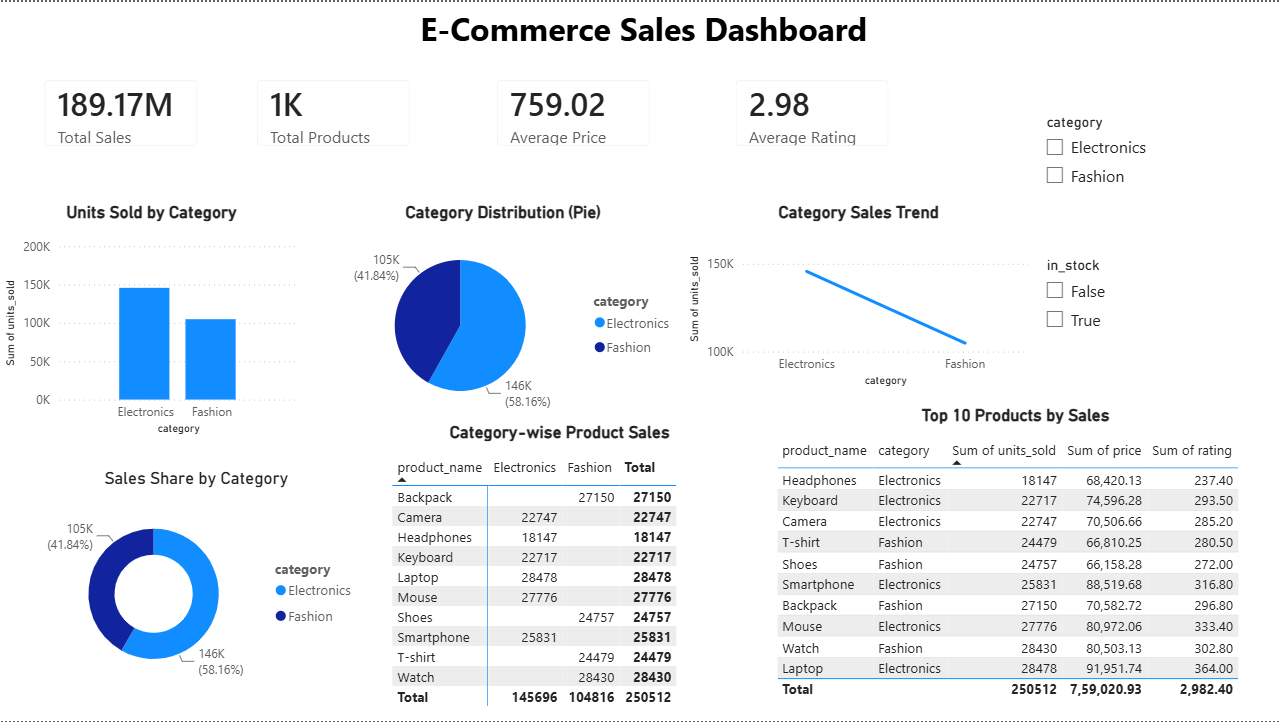

Layout of this report page (visuals, bound fields, positions):
{"tool":"powerbi","page":{"name":"Page 1","canvas":[1280,720],"ordinal":0},"visuals":[{"type":"cardVisual","fields":{"Data":["ecommerce_dataset_cleaned.Total Sales"]},"box":[27.4,61.7,188,100],"z":0},{"type":"cardVisual","fields":{"Data":["ecommerce_dataset_cleaned.Total Products"]},"box":[240.1,61.7,187,100],"z":1000},{"type":"cardVisual","fields":{"Data":["ecommerce_dataset_cleaned.Average Price"]},"box":[480.3,61.7,187,100],"z":2000},{"type":"cardVisual","fields":{"Data":["ecommerce_dataset_cleaned.Average Rating"]},"box":[719,61.7,187,100],"z":3000},{"type":"lineClusteredColumnComboChart","title":"Units Sold by Category","fields":{"Category":["ecommerce_dataset_cleaned.category"],"Y":["Sum(ecommerce_dataset_cleaned.units_sold)"]},"box":[0,200.3,303.3,237.4],"z":4000},{"type":"donutChart","title":"Sales Share by Category","fields":{"Y":["Sum(ecommerce_dataset_cleaned.units_sold)"],"Category":["ecommerce_dataset_cleaned.category"]},"box":[27.4,466.6,337.6,220.9],"z":5000},{"type":"lineChart","title":"Category Sales Trend","fields":{"Category":["ecommerce_dataset_cleaned.category"],"Y":["Sum(ecommerce_dataset_cleaned.units_sold)"]},"box":[683.4,200.3,349.9,189.4],"z":6000},{"type":"pivotTable","title":"Category-wise Product Sales","fields":{"Rows":["ecommerce_dataset_cleaned.product_name"],"Columns":["ecommerce_dataset_cleaned.category"],"Values":["Sum(ecommerce_dataset_cleaned.units_sold)"]},"box":[387,419.9,344.4,290.9],"z":7000},{"type":"tableEx","title":"Top 10 Products by Sales","fields":{"Values":["ecommerce_dataset_cleaned.product_name","ecommerce_dataset_cleaned.category","Sum(ecommerce_dataset_cleaned.units_sold)","Sum(ecommerce_dataset_cleaned.price)","Sum(ecommerce_dataset_cleaned.rating)"]},"box":[771.2,402.5,488.8,308.8],"z":8000},{"type":"slicer","fields":{"Values":["ecommerce_dataset_cleaned.category"]},"box":[1033.3,105.7,172.9,122.1],"z":9000},{"type":"slicer","fields":{"Values":["ecommerce_dataset_cleaned.in_stock"]},"box":[1033.3,249.7,185.2,118],"z":10000},{"type":"pieChart","title":"Category Distribution (Pie)","fields":{"Category":["ecommerce_dataset_cleaned.category"],"Y":["Sum(ecommerce_dataset_cleaned.units_sold)"]},"box":[322.5,200.3,360.9,216.8],"z":11000},{"type":"textbox","box":[27.4,0,1232.3,61.7],"z":12000}]}

Visuals, with their boxes in screenshot pixels (x1, y1, x2, y2), scaled from the page's 1280x720 canvas onto the 1280x722 screenshot:
cardVisual - ecommerce_dataset_cleaned.Total Sales: {"x1": 27, "y1": 62, "x2": 215, "y2": 162}
cardVisual - ecommerce_dataset_cleaned.Total Products: {"x1": 240, "y1": 62, "x2": 427, "y2": 162}
cardVisual - ecommerce_dataset_cleaned.Average Price: {"x1": 480, "y1": 62, "x2": 667, "y2": 162}
cardVisual - ecommerce_dataset_cleaned.Average Rating: {"x1": 719, "y1": 62, "x2": 906, "y2": 162}
"Units Sold by Category" lineClusteredColumnComboChart: {"x1": 0, "y1": 201, "x2": 303, "y2": 439}
"Sales Share by Category" donutChart: {"x1": 27, "y1": 468, "x2": 365, "y2": 689}
"Category Sales Trend" lineChart: {"x1": 683, "y1": 201, "x2": 1033, "y2": 391}
"Category-wise Product Sales" pivotTable: {"x1": 387, "y1": 421, "x2": 731, "y2": 713}
"Top 10 Products by Sales" tableEx: {"x1": 771, "y1": 404, "x2": 1260, "y2": 713}
slicer - ecommerce_dataset_cleaned.category: {"x1": 1033, "y1": 106, "x2": 1206, "y2": 228}
slicer - ecommerce_dataset_cleaned.in_stock: {"x1": 1033, "y1": 250, "x2": 1218, "y2": 369}
"Category Distribution (Pie)" pieChart: {"x1": 322, "y1": 201, "x2": 683, "y2": 418}
textbox: {"x1": 27, "y1": 0, "x2": 1260, "y2": 62}
